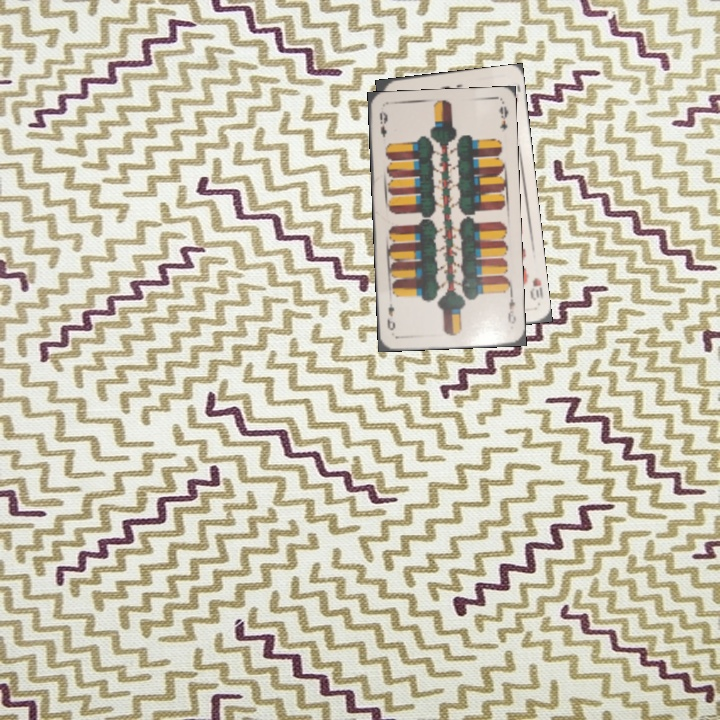E9: (504, 289, 519, 326), (376, 107, 390, 140)
H10: (526, 274, 545, 303)
